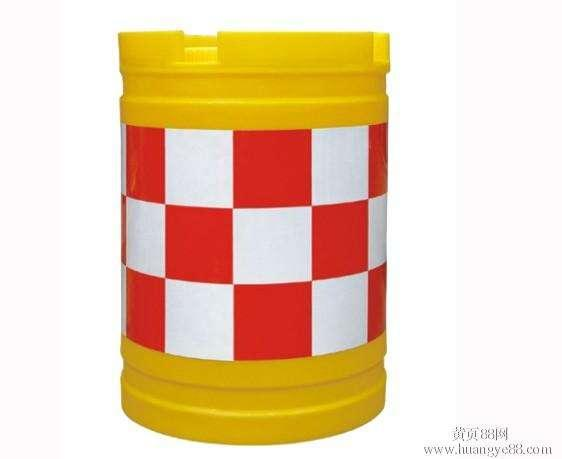sign: (96, 21, 401, 446)
